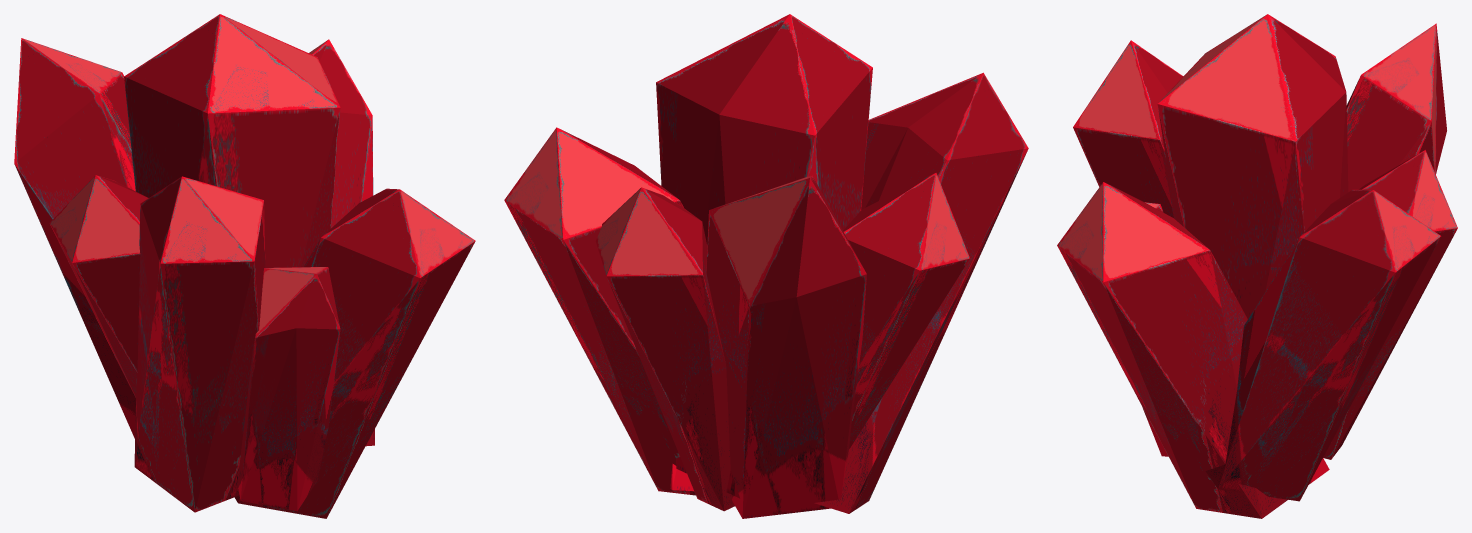
Rendered from Crystal Medium.fbx.
The picture shows the model from 3 angles, left to right: view 1: azimuth 30°, elevation 25°; view 2: azimuth 150°, elevation 25°; view 3: azimuth 270°, elevation 25°; orthographic projection. The views are drawn at different scales.
Parts seen in each view (by area): view 1: Icosphere.027_Icosphere.031, Icosphere.025_Icosphere.029, Icosphere.028_Icosphere.032, Icosphere.031_Icosphere.013, Icosphere.029_Icosphere.010, Icosphere.026_Icosphere.030, Icosphere.020_Icosphere.024; view 2: Icosphere.029_Icosphere.010, Icosphere.025_Icosphere.029, Icosphere.027_Icosphere.031, Icosphere.030_Icosphere.011, Icosphere.020_Icosphere.024, Icosphere.026_Icosphere.030; view 3: Icosphere.025_Icosphere.029, Icosphere.020_Icosphere.024, Icosphere.028_Icosphere.032, Icosphere.029_Icosphere.010, Icosphere.027_Icosphere.031, Icosphere.030_Icosphere.011.
Part boxes in pixels (x1,y1,x2,y2): Icosphere.027_Icosphere.031: [134, 176, 265, 512]; Icosphere.025_Icosphere.029: [124, 14, 340, 267]; Icosphere.028_Icosphere.032: [234, 188, 475, 518]; Icosphere.031_Icosphere.013: [237, 267, 340, 511]; Icosphere.029_Icosphere.010: [14, 38, 135, 438]; Icosphere.026_Icosphere.030: [49, 175, 148, 397]; Icosphere.020_Icosphere.024: [309, 39, 374, 446]; Icosphere.029_Icosphere.010: [706, 175, 866, 518]; Icosphere.025_Icosphere.029: [656, 14, 872, 498]; Icosphere.027_Icosphere.031: [814, 72, 1028, 513]; Icosphere.030_Icosphere.011: [596, 187, 734, 511]; Icosphere.020_Icosphere.024: [504, 127, 695, 495]; Icosphere.026_Icosphere.030: [843, 173, 969, 448]; Icosphere.025_Icosphere.029: [1157, 14, 1348, 318]; Icosphere.020_Icosphere.024: [1205, 189, 1441, 501]; Icosphere.028_Icosphere.032: [1057, 182, 1329, 518]; Icosphere.029_Icosphere.010: [1346, 23, 1446, 191]; Icosphere.027_Icosphere.031: [1073, 40, 1183, 218]; Icosphere.030_Icosphere.011: [1323, 150, 1457, 459].
Size of the model in its own units: 268 by 349 by 273.
